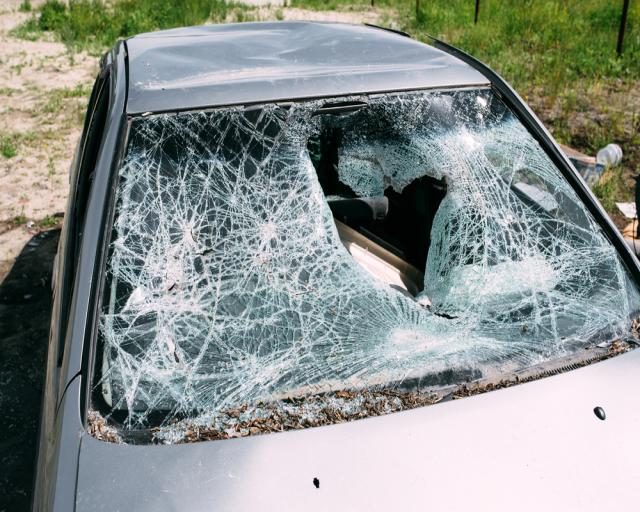dent: (133, 21, 447, 89)
glass shatter: (89, 82, 640, 445)
